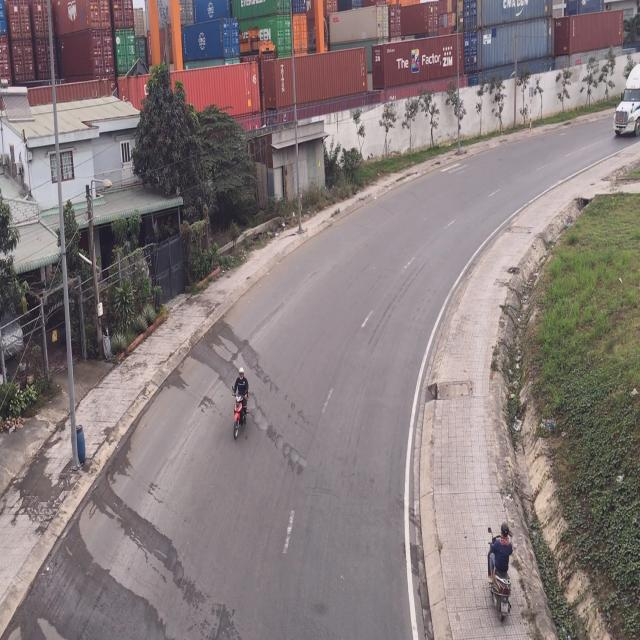motorbike: (485, 522, 513, 622), (231, 369, 252, 441)
truck: (615, 56, 640, 140)
